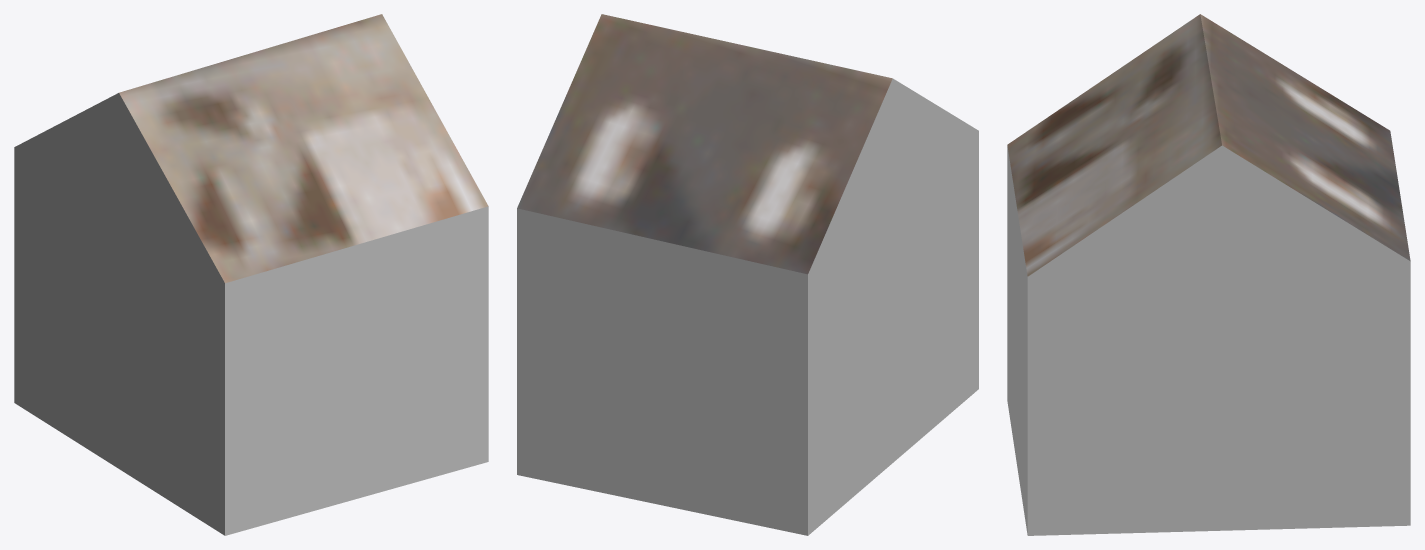
Rendered from DEBW_0010007Txag.gltf.
3 renders of one model, left to right at view 1: azimuth 30°, elevation 25°; view 2: azimuth 150°, elevation 25°; view 3: azimuth 270°, elevation 25°, orthographic. The views are drawn at different scales.
Visible parts, largest first — view 1: Z_UP; view 2: Z_UP; view 3: Z_UP.
Part boxes in pixels (box(x1,y1,x2,y2)): Z_UP: box(14, 14, 488, 535); Z_UP: box(517, 14, 978, 535); Z_UP: box(1007, 14, 1410, 535).
Bounding box in the file's own units: 8.68 × 10.68 × 10.13.
Materials: 2 (1 with a texture image).
